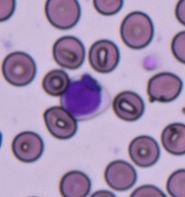L: (61, 73, 112, 121)
